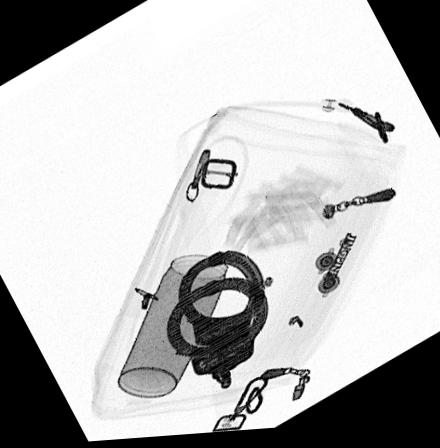HandCuffs: (162, 251, 269, 396)
